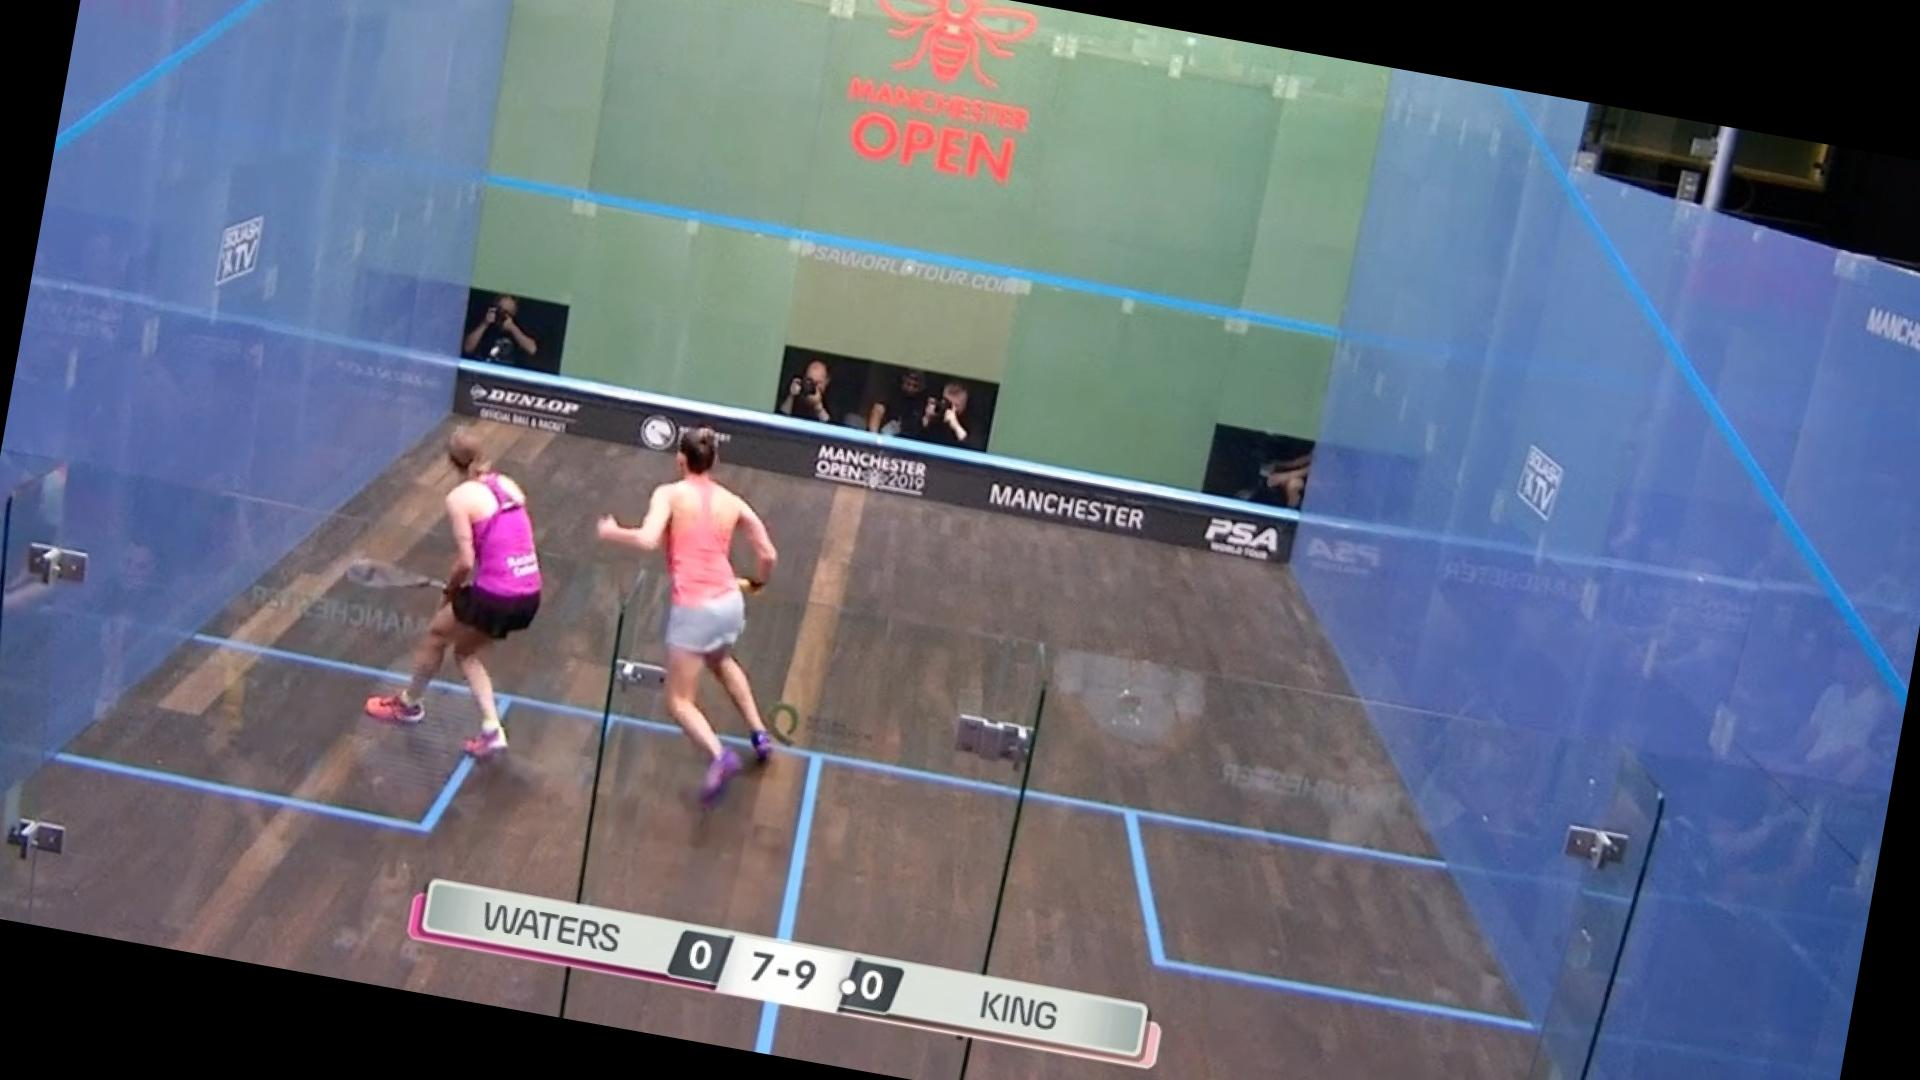Squash-Ball: (476, 334, 520, 384)
